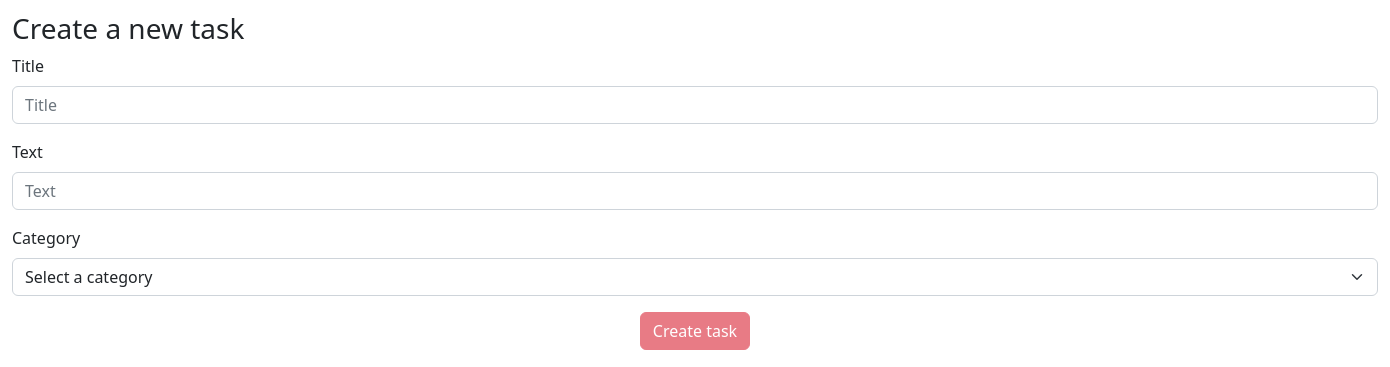
FORM Component 👾 › ✅ Click on submit button and clear the form
In the field with placeholder "Title": [695, 105] box [12, 86, 1378, 124], type "Example title"
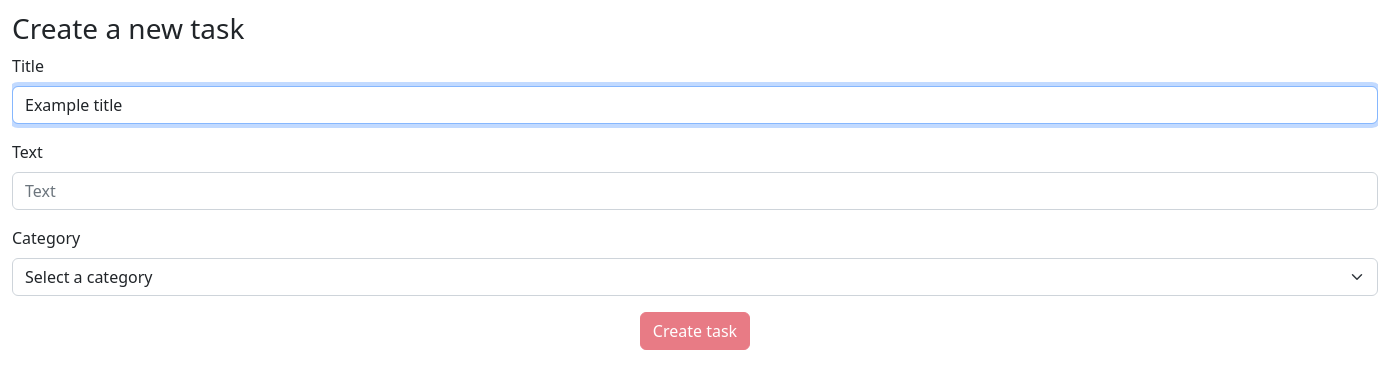
In the field with placeholder "Text": [695, 191] box [12, 172, 1378, 210], type "Example text"
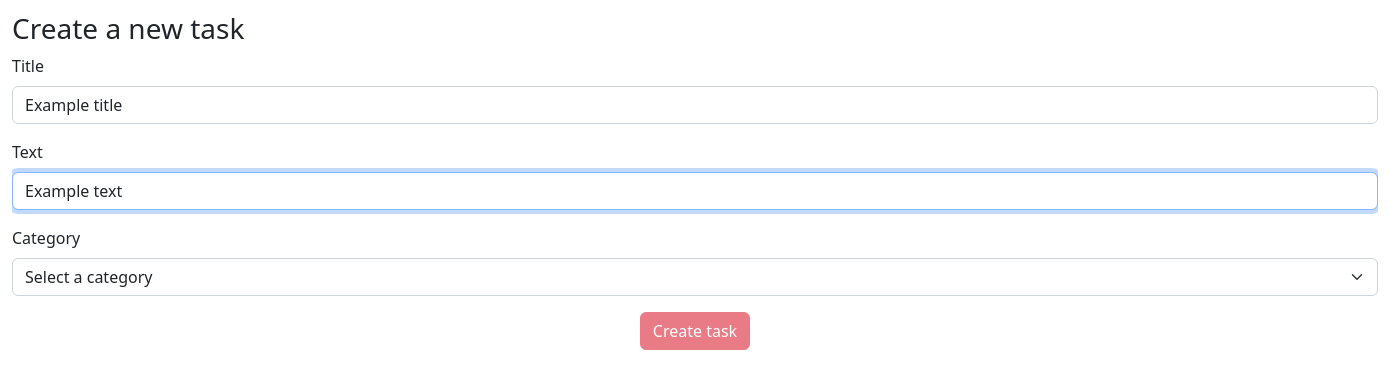
Select "House" in the dropdown: [695, 277] box [12, 258, 1378, 296]
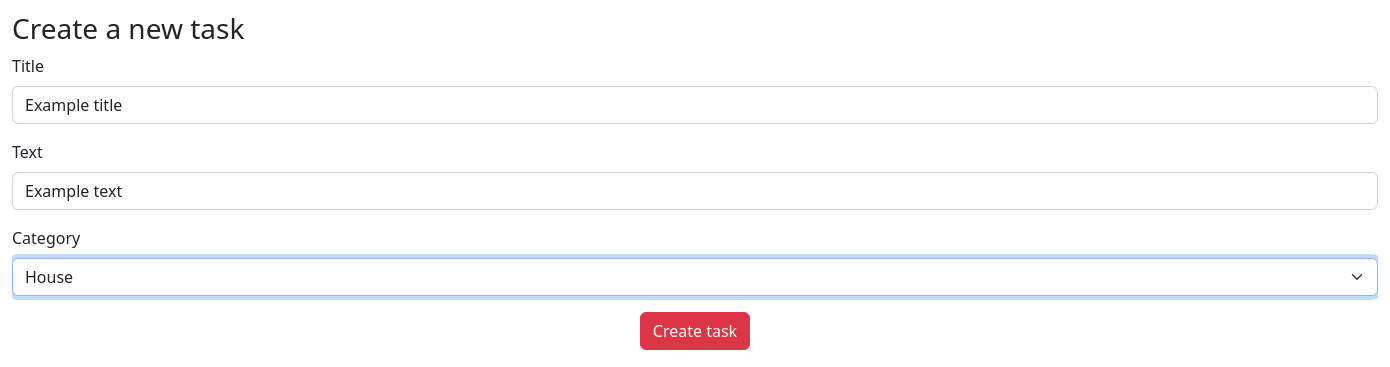
Check: the button "Create task" is enabled
Click the button "Create task": [695, 331] box [640, 312, 750, 350]
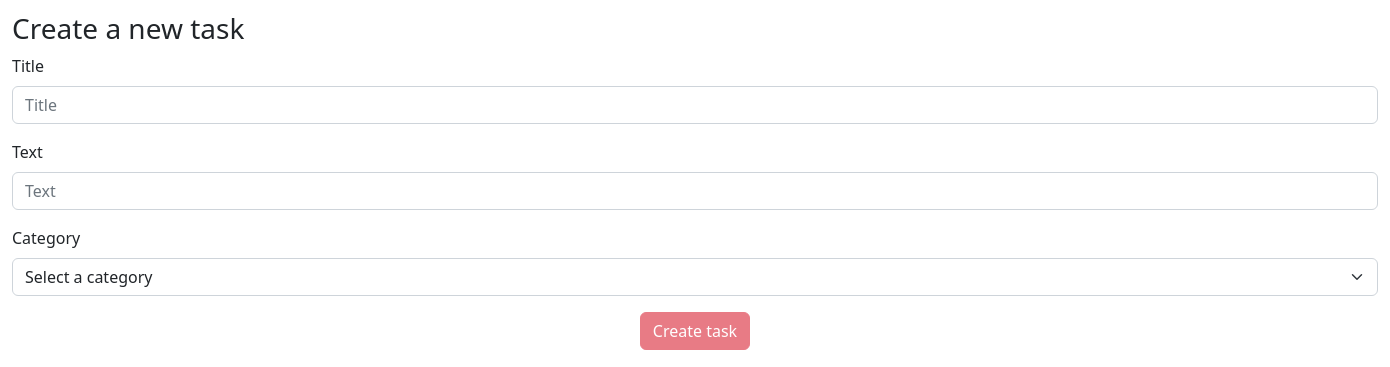
Check: the field with placeholder "Title" is empty, box [12, 86, 1378, 124]
Check: the field with placeholder "Text" is empty, box [12, 172, 1378, 210]
Check: the dropdown shows "Select a category", box [12, 258, 1378, 296]
